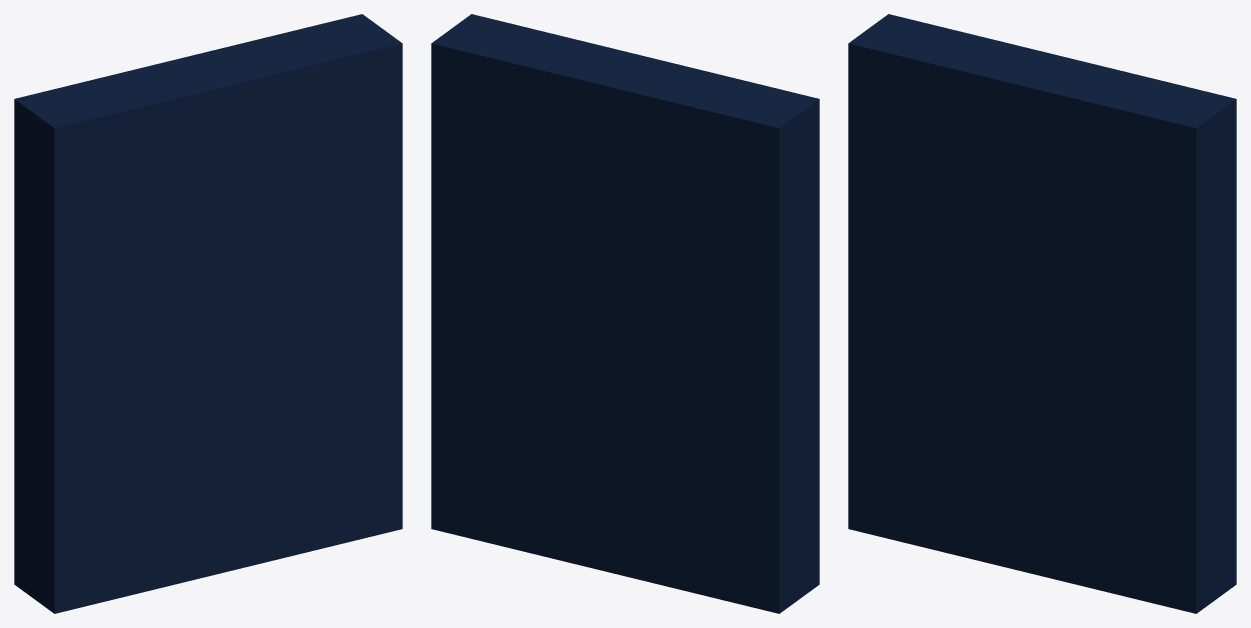
File: console.glb
3 views of the same model, side by side, from view 1: azimuth 30°, elevation 25°; view 2: azimuth 150°, elevation 25°; view 3: azimuth 330°, elevation 25° (orthographic).
Visible parts, largest first — view 1: console-body; view 2: console-body; view 3: console-body.
Part boxes in pixels (<box>): console-body: <box>14,14,402,613</box>; console-body: <box>431,14,819,613</box>; console-body: <box>848,14,1236,613</box>.
Size of the model in its own units: 0.6 by 0.8 by 0.12.
